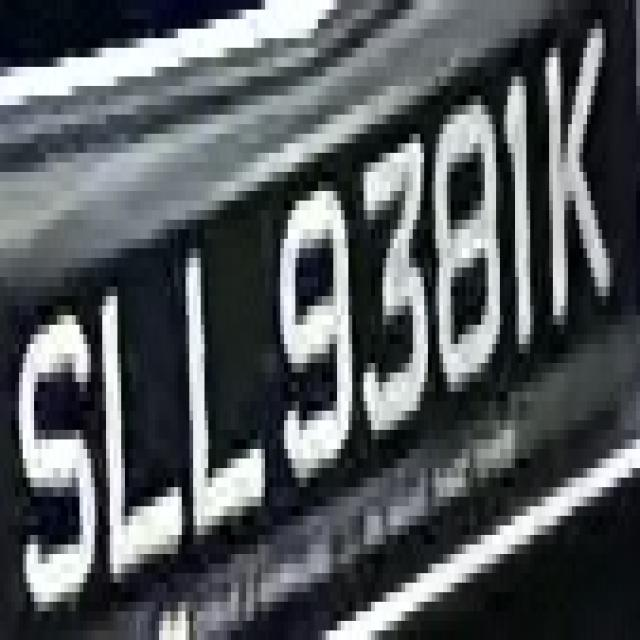1: (500, 57, 538, 382)
3: (341, 96, 432, 458)
8: (424, 86, 500, 420)
9: (276, 162, 356, 478)
K: (542, 9, 610, 324)
L: (178, 230, 273, 544), (95, 258, 178, 592)
S: (11, 277, 95, 630)
